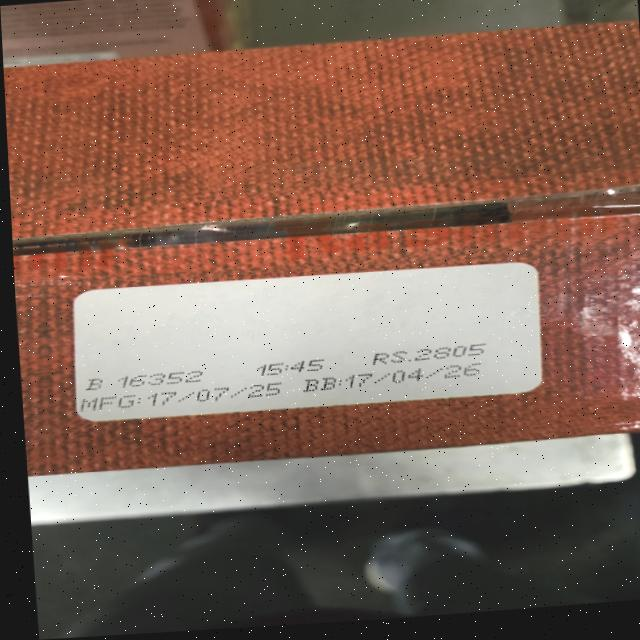BB: (306, 362, 487, 392)
Batch: (84, 369, 208, 391)
MFG: (78, 382, 283, 413)
RS: (370, 343, 491, 365)
TimeStamp: (254, 358, 327, 376)
